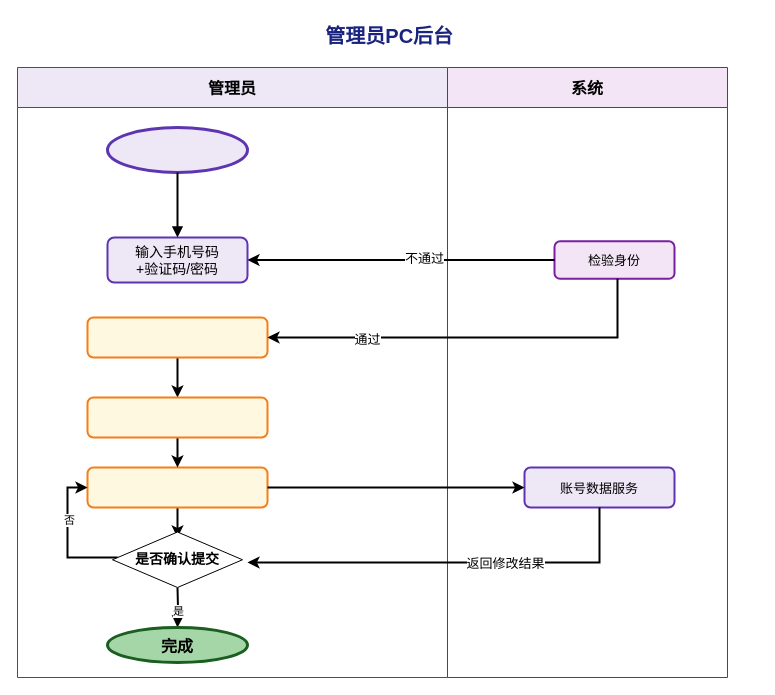
The diagram is 775 pixels wide and 695 high, and some of its shapes have lost their labels. Here are the shapes that lost their labels. From the top down, the box of each, then its label:
(106, 126, 248, 174): 登录PC管理后台
(86, 316, 268, 358): 进入账号管理页面 （安保人员/会务人员）
(86, 396, 268, 438): 查看账号列表 (姓名/手机号/角色)
(86, 466, 268, 508): 新增 / 编辑 / 删除账号
